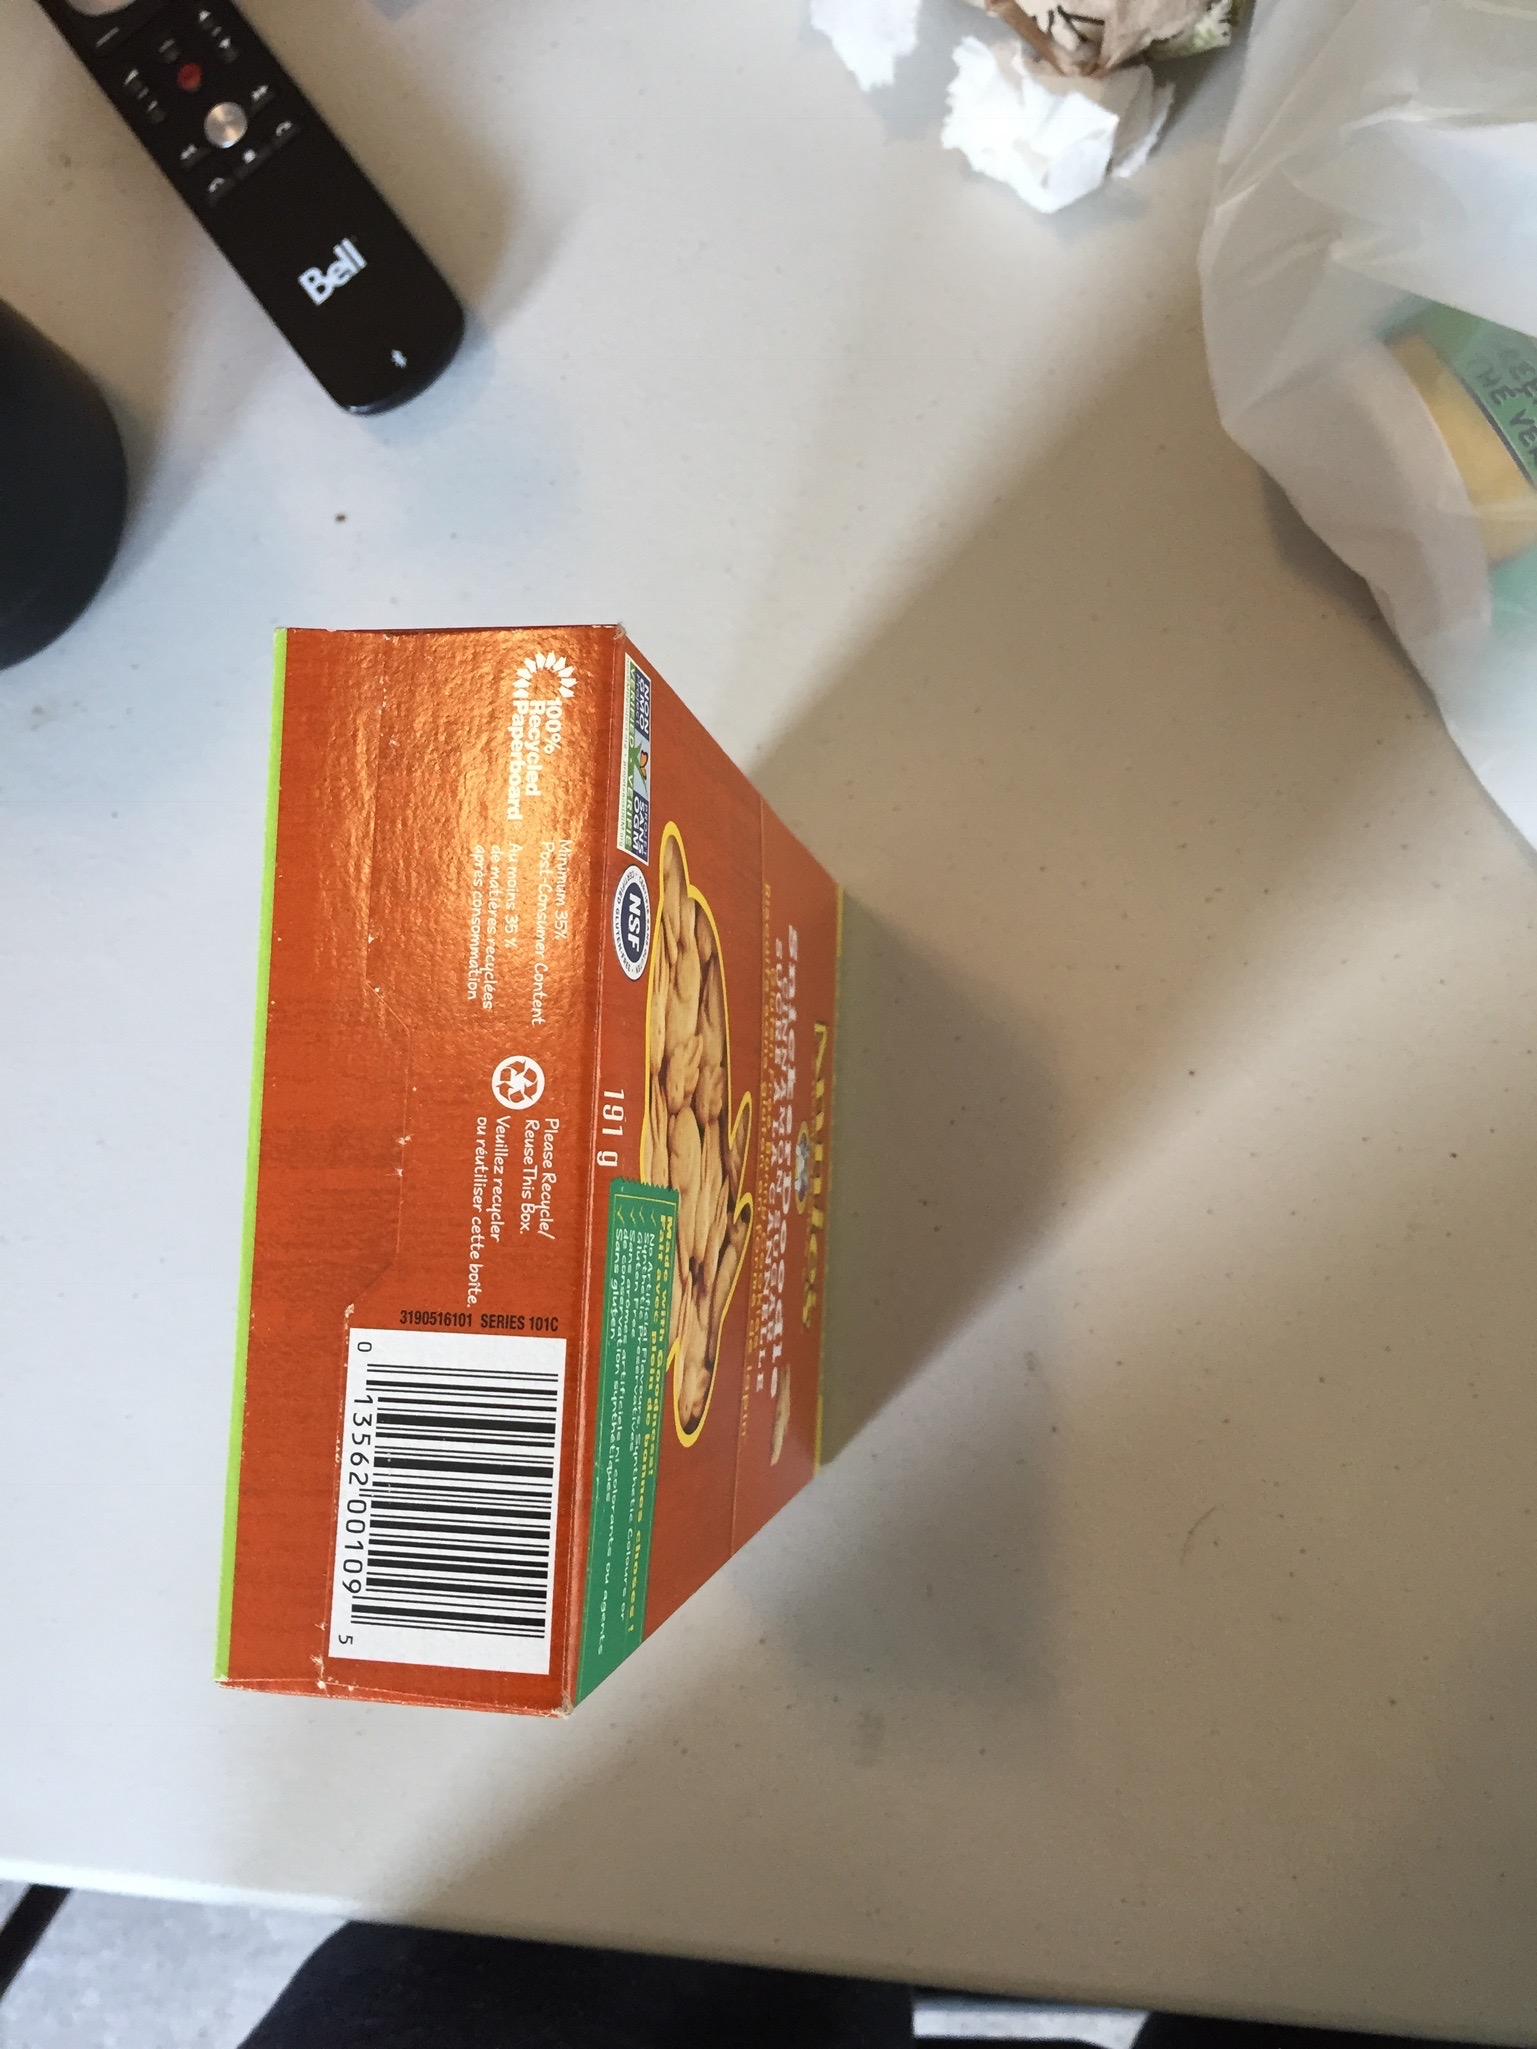annies_snickerdoodle_cinnamon_sugar: (291, 641, 563, 1695)
